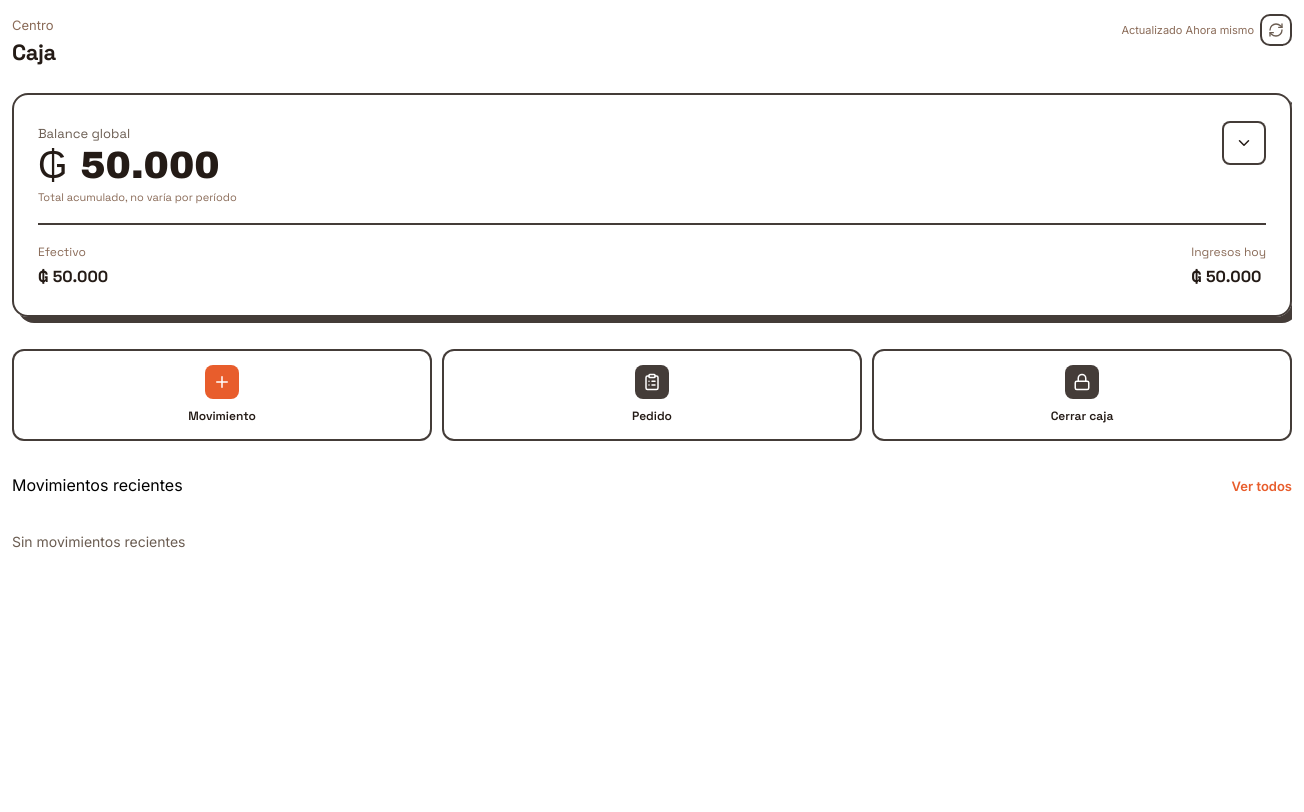
Test: HomePage K1/K2: running-total scope note + K5: last-updated/refresh › K1/K2: labels the period tabs as scoping only the breakdown below, once expanded
expect the text "₲ 50.000" below "Balance global" is shown: met, box [38,145,220,186]
What coordinates should you click on to do the following:
click the button named "Ver desglose"
I would click on:
 (1244, 143)
Its box is [1222,121,1266,165].
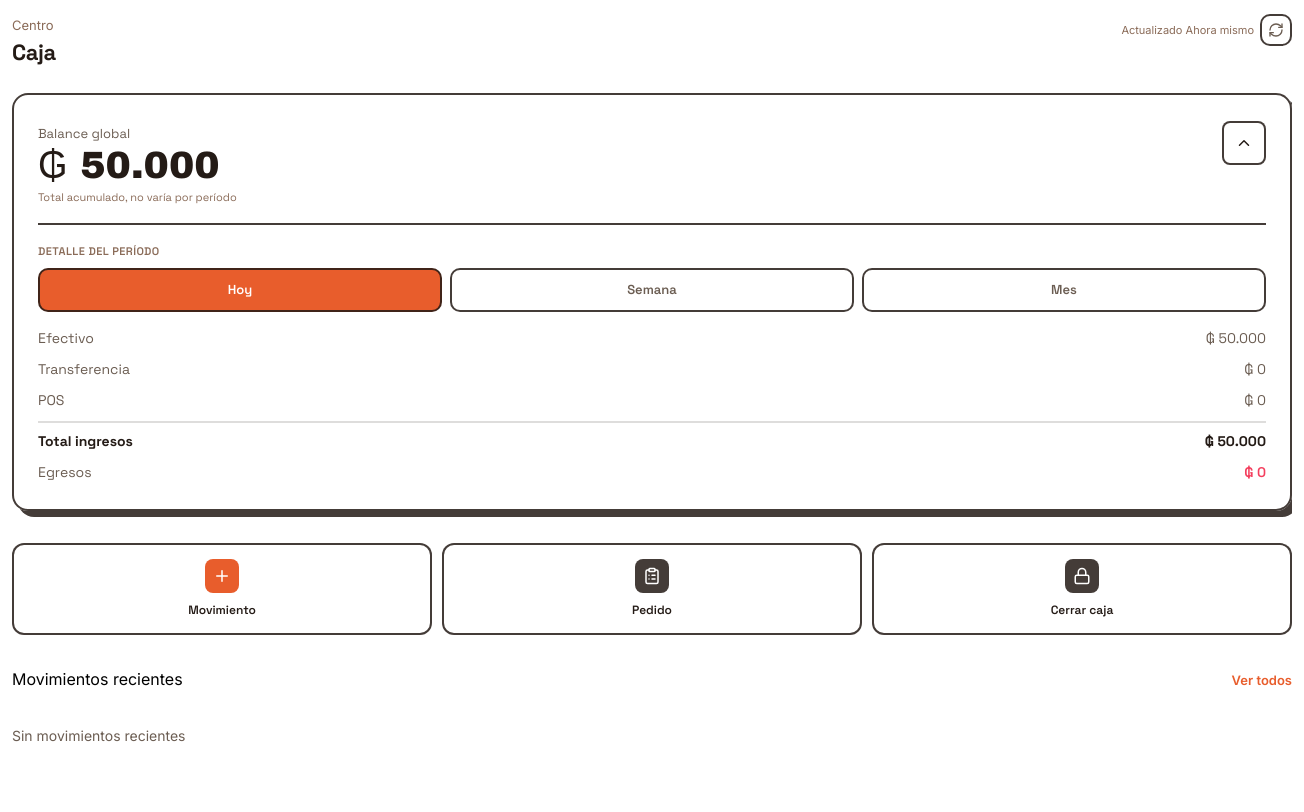
expect the text "Detalle del período" is shown: met, box [38,244,160,258]
